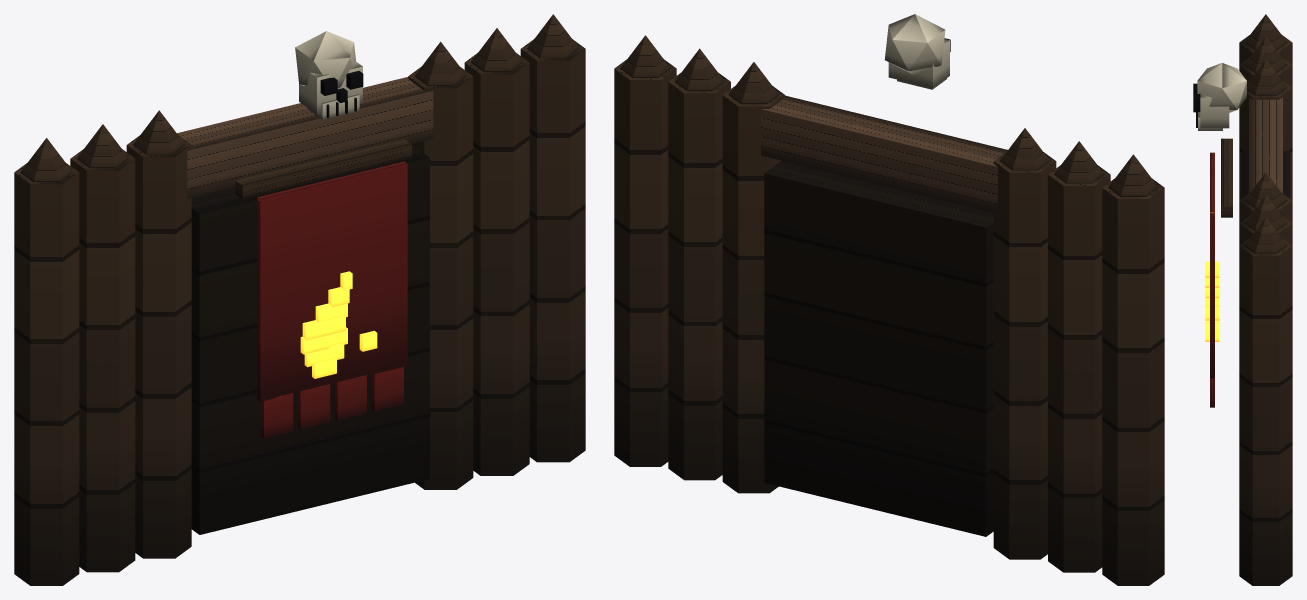
Rendered from palisade_gate.glb.
The picture shows the model from 3 angles, left to right: view 1: azimuth 30°, elevation 25°; view 2: azimuth 150°, elevation 25°; view 3: azimuth 270°, elevation 25°; orthographic projection. The views are drawn at different scales.
Parts seen in each view (by area): view 1: palisade_gate; view 2: palisade_gate; view 3: palisade_gate.
Part boxes in pixels (box(x1,y1,x2,y2)): palisade_gate: box(14, 14, 585, 585); palisade_gate: box(614, 14, 1164, 585); palisade_gate: box(1193, 14, 1292, 585).
Size of the model in its own units: 2.17 by 1.87 by 0.4088.
1 material, 1 textured.
